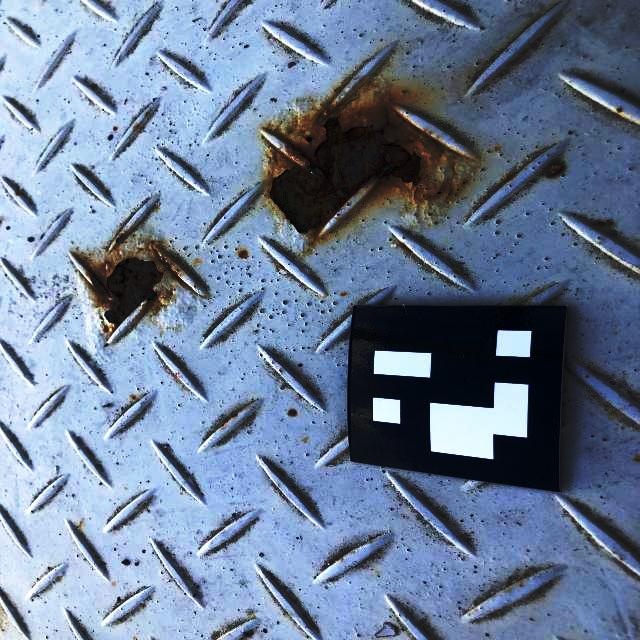Corrosion: (265, 101, 453, 233), (80, 241, 183, 340)
